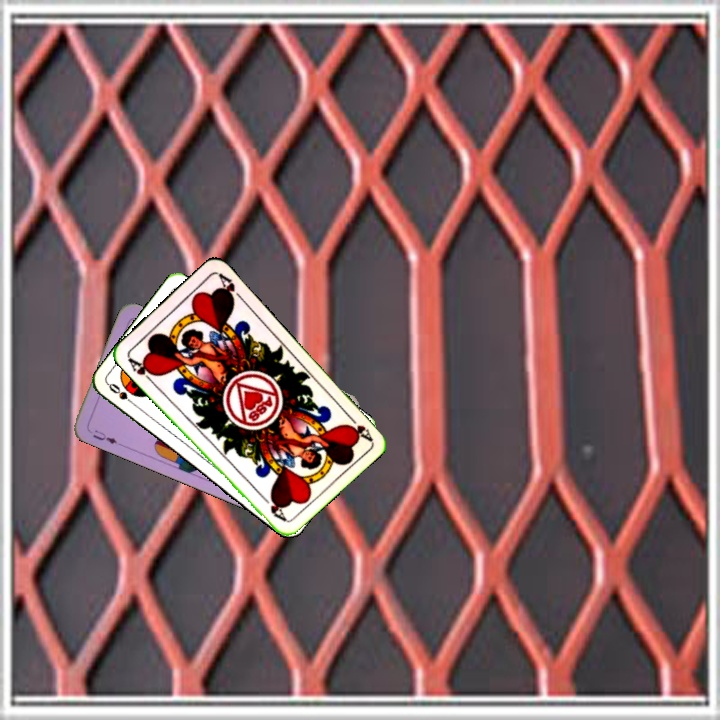EU: (89, 426, 120, 447)
HA: (123, 353, 160, 386), (342, 409, 374, 443)
SO: (104, 379, 139, 409)
